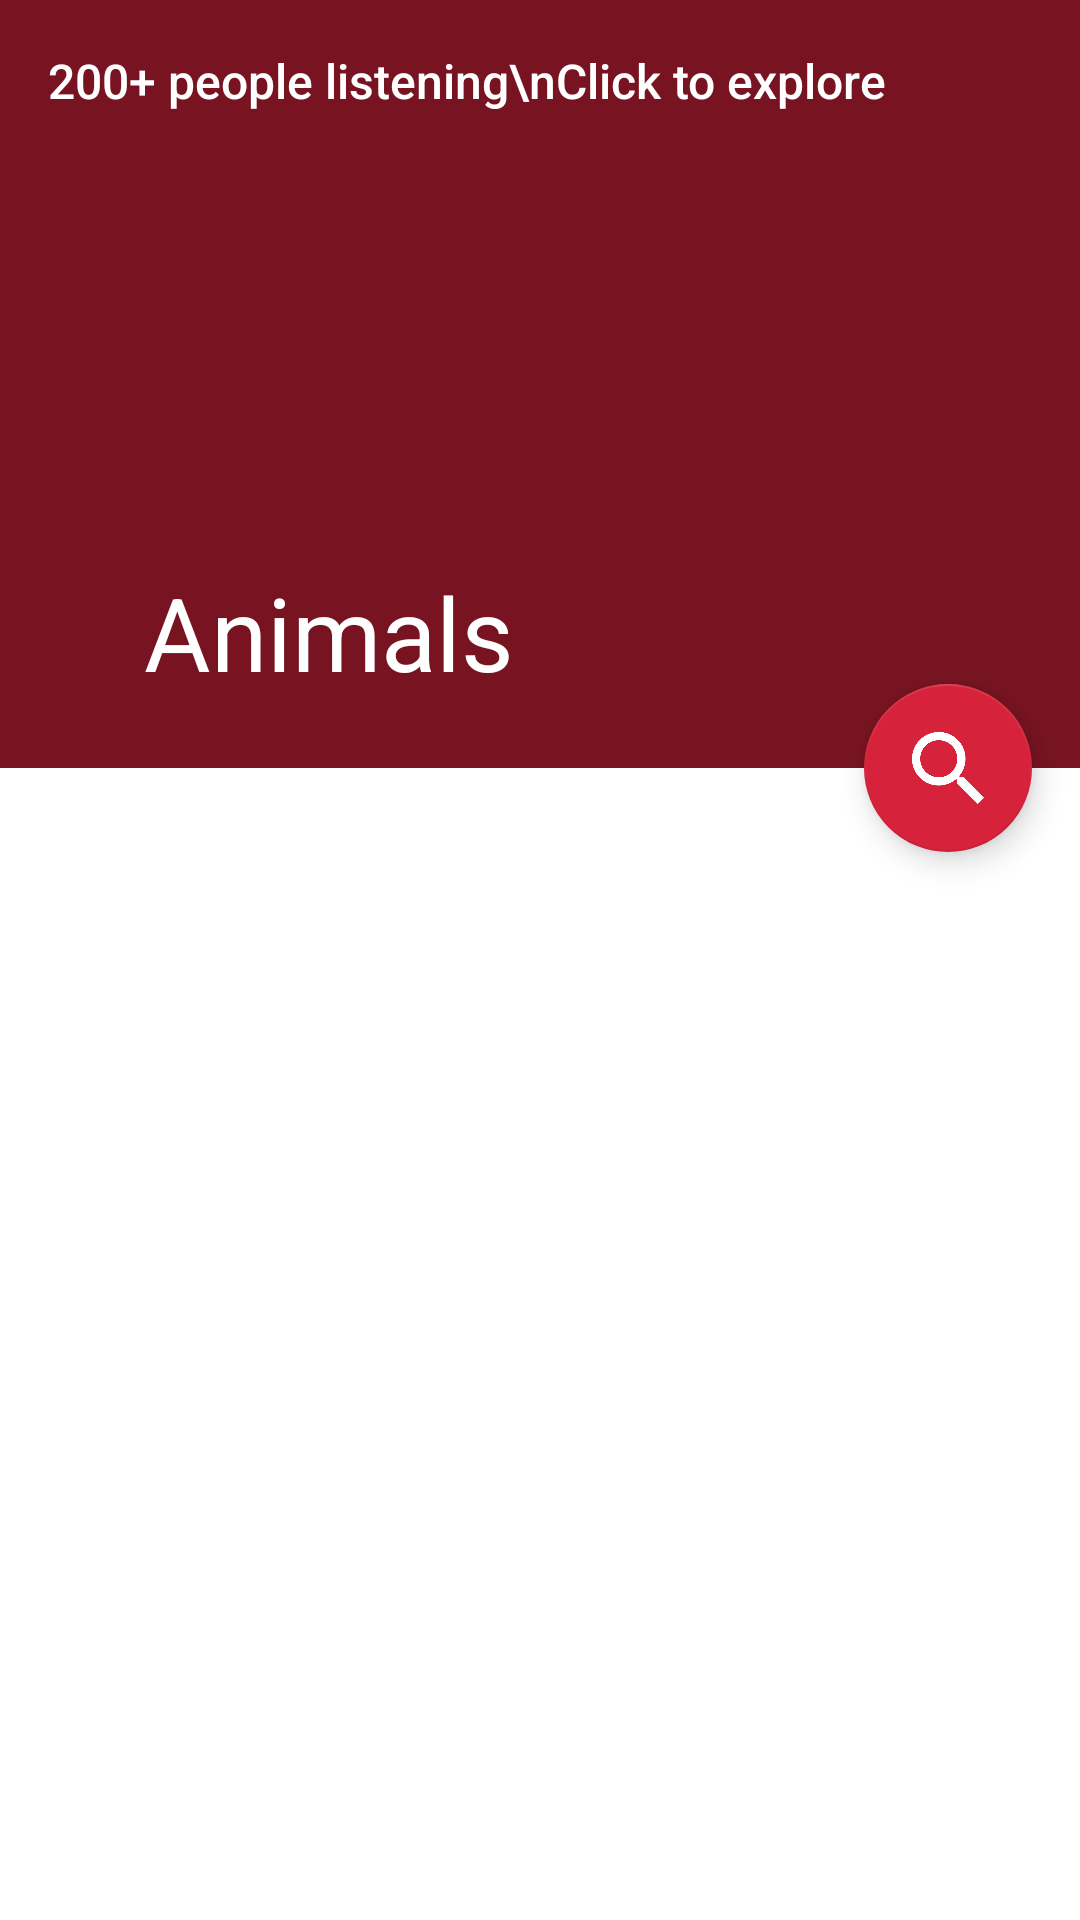

Icons on this 1080 × 1920 Android screen, each with the point to tap as [x,y]:
search: [948,768]
